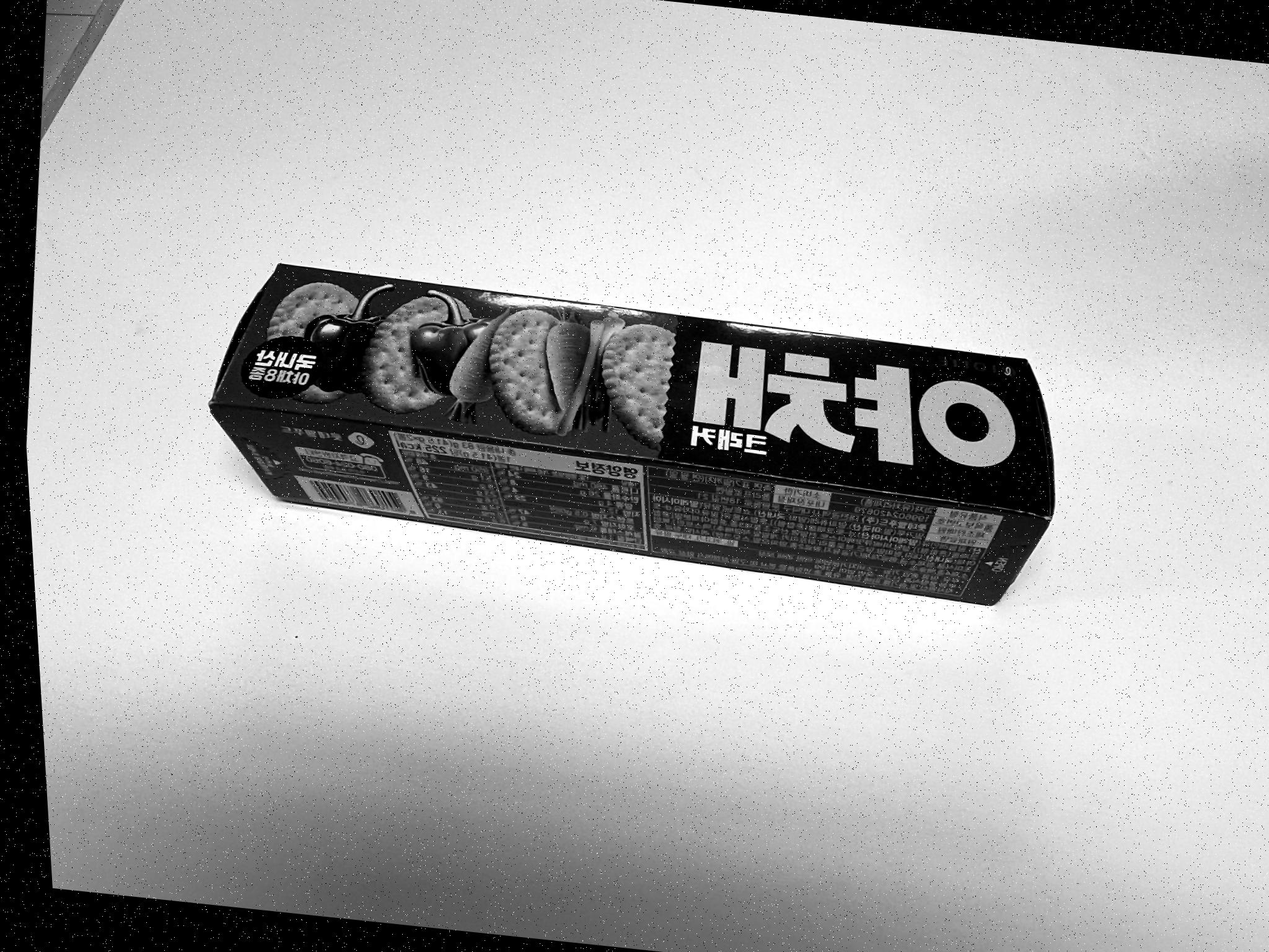cracker_vege: (208, 264, 1053, 608)
